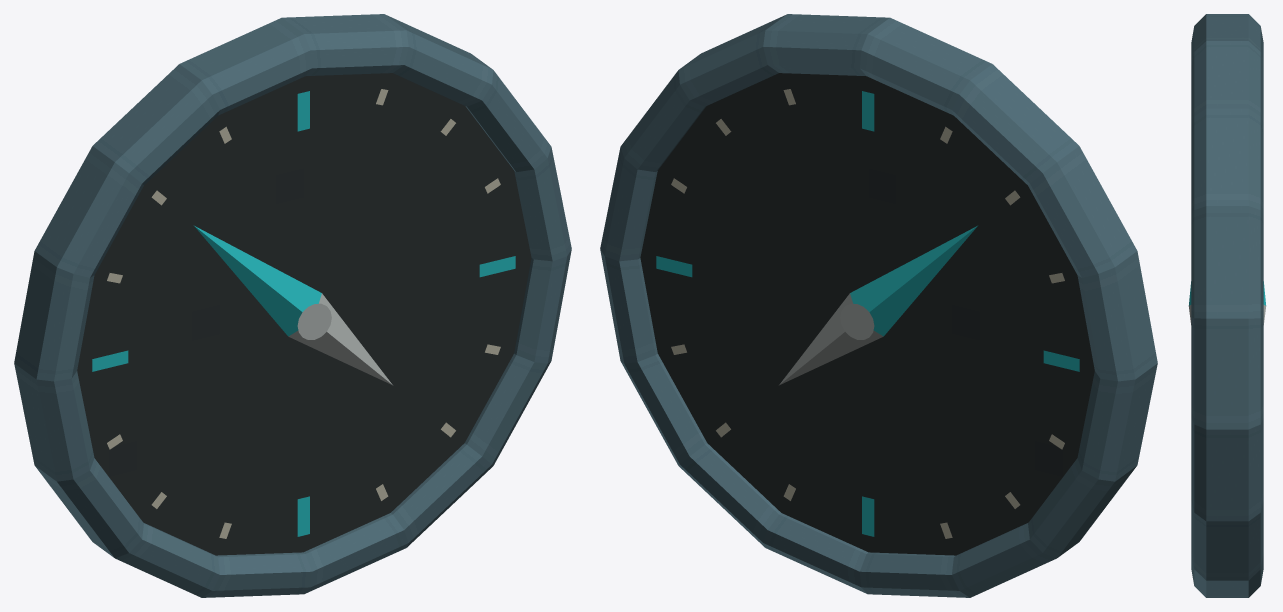
The model's file is recovery_compass_12.obj.
The picture shows the model from 3 angles, left to right: view 1: azimuth 30°, elevation 25°; view 2: azimuth 150°, elevation 25°; view 3: azimuth 270°, elevation 25°; orthographic projection. The views are drawn at different scales.
Size of the model in its own units: 0.6037 by 0.6037 by 0.085.
